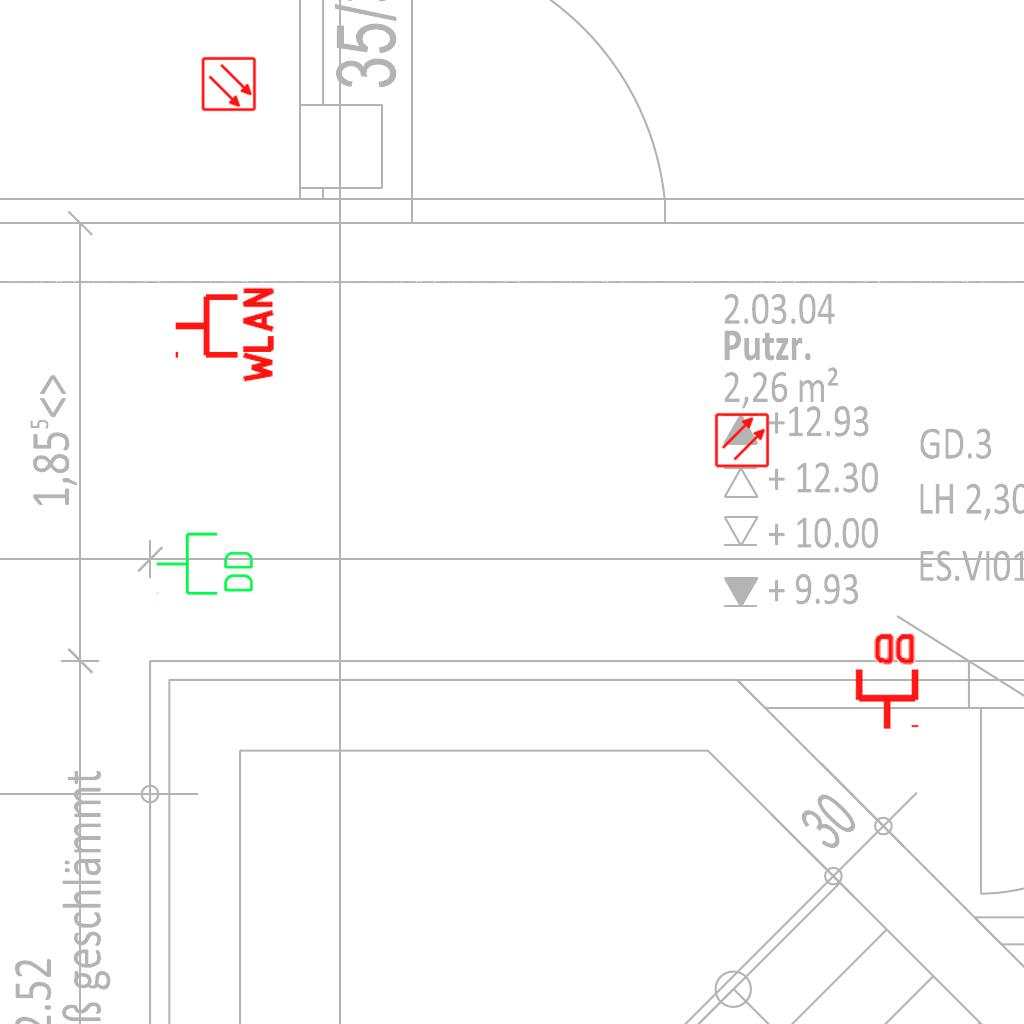Datenanschluss_zweifach: (851, 629, 920, 732), (154, 530, 257, 599)
RMO_Rauchmelder_optischer: (201, 56, 257, 112), (714, 412, 770, 468)
WLAN: (171, 283, 276, 387)
